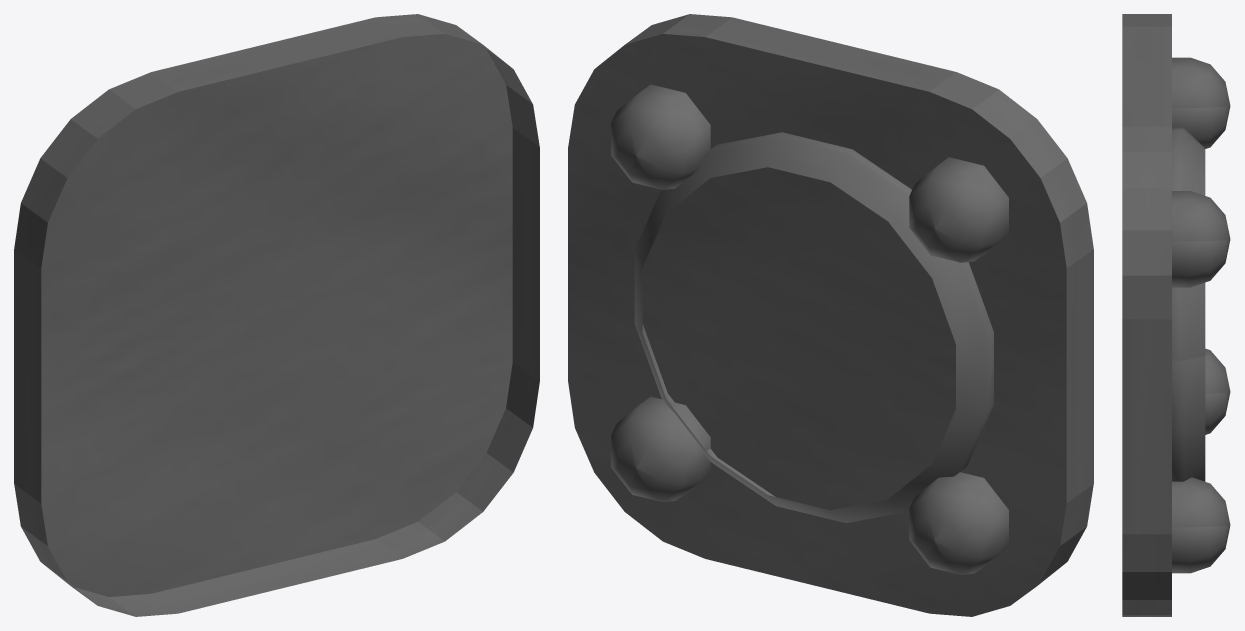
Rendered from polebase_thin_squircle.obj.
3 renders of one model, left to right at view 1: azimuth 30°, elevation 25°; view 2: azimuth 150°, elevation 25°; view 3: azimuth 270°, elevation 25°, orthographic. The views are drawn at different scales.
Visible parts, largest first — view 1: polebase_thin_squircle; view 2: polebase_thin_squircle; view 3: polebase_thin_squircle.
Boxes of the visible parts, box(x1,y1,x2,y2) form: polebase_thin_squircle: box(14, 14, 539, 616); polebase_thin_squircle: box(568, 14, 1093, 616); polebase_thin_squircle: box(1122, 14, 1230, 616).
Size of the model in its own units: 0.79 by 0.79 by 0.1619.
